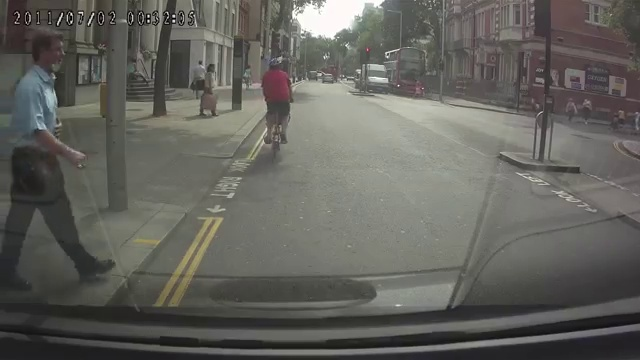cyclist_back: (260, 57, 294, 166)
